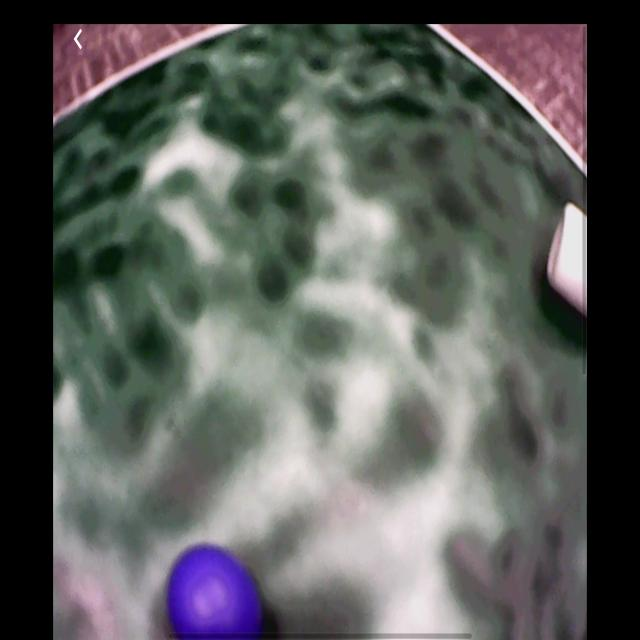ball: (167, 544, 265, 637)
